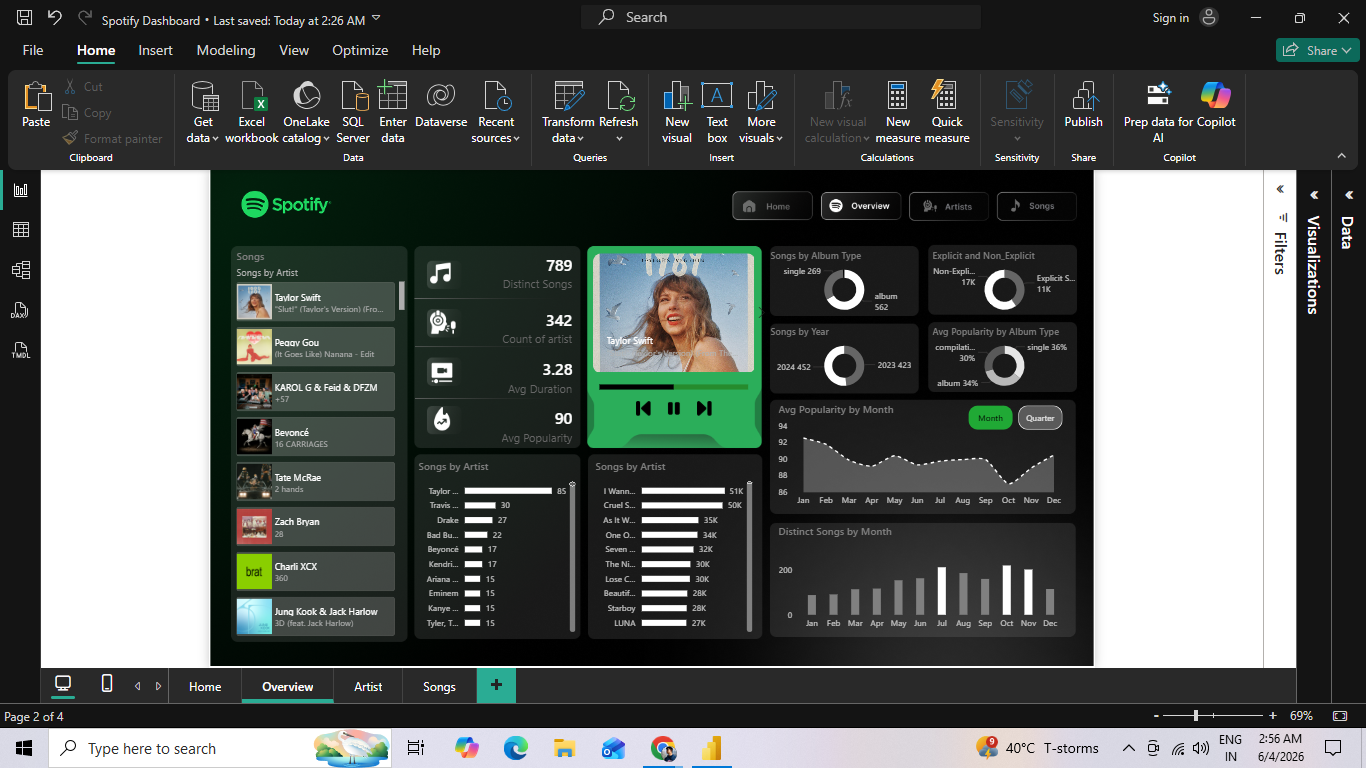

This screenshot's page, from the dashboard's own definition file:
{"tool":"powerbi","page":{"name":"Overview","canvas":[1280,720],"ordinal":1},"visuals":[{"type":"clusteredBarChart","title":"Songs by Artist","fields":{"Category":["Top-50-World.artist"],"Y":["Top-50-World.Distinct Songs per Artist"]},"box":[297.3,418.3,236.9,255.3],"z":0},{"type":"clusteredBarChart","title":"Songs by Artist","fields":{"Category":["Top-50-World.song"],"Y":["Sum(Top-50-World.popularity)"]},"box":[554.3,418.3,236.9,255.3],"z":1000},{"type":"areaChart","fields":{"Category":["Top-50-World.Month"],"Y":["Top-50-World.Avg Popularity"]},"box":[818.1,336,421.6,159.6],"z":2000},{"type":"advancedSlicerVisual","fields":{"Values":["Slicer_option.Slicer_option"]},"box":[1093.5,336,146.1,45.4],"z":3000},{"type":"donutChart","title":"Songs by Album Type","fields":{"Category":["Top-50-World.album_type"],"Y":["Top-50-World.Distinct Songs per Artist"]},"box":[806.3,114.2,223.4,100.8],"z":4000},{"type":"donutChart","title":"Avg Popularity by Album Type","fields":{"Category":["Top-50-World.album_type"],"Y":["Top-50-World.Avg Popularity"]},"box":[1041.5,223.4,218.4,100.8],"z":5000},{"type":"donutChart","title":"Songs by Year","fields":{"Y":["Top-50-World.Distinct Songs per Artist"],"Category":["Top-50-World.date.Variation.Date Hierarchy.Year"]},"box":[806.3,223.4,223.4,100.8],"z":6000},{"type":"donutChart","title":"Explicit and Non_Explicit","fields":{"Y":["Top-50-World.Explicit Songs","Top-50-World.Non-Explicit Songs"]},"box":[1041.5,114.2,218.4,100.8],"z":7000},{"type":"clusteredColumnChart","title":"Distinct Songs by Month","fields":{"Category":["Top-50-World.Month"],"Y":["Top-50-World.Distinct Songs per Artist"]},"box":[818.1,512.3,421.6,161.3],"z":8000},{"type":"cardVisual","title":"Distinct Songs by Month","fields":{"Data":["Top-50-World.Distinct Songs per Artist"]},"box":[393.1,97.4,161.3,102.5],"z":9000},{"type":"cardVisual","title":"Distinct Songs by Month","fields":{"Data":["Count(Top-50-World.artist)"]},"box":[393.1,180.9,161.3,94.1],"z":10000},{"type":"cardVisual","title":"Distinct Songs by Month","fields":{"Data":["Top-50-World.Avg Duration Minutes"]},"box":[337.6,255.9,216.7,87.3],"z":11000},{"type":"cardVisual","title":"Distinct Songs by Month","fields":{"Data":["Top-50-World.Avg Popularity"]},"box":[393.1,324.2,161.3,92.4],"z":12000},{"type":"image","box":[310.8,275.5,52.1,35.3],"z":13000},{"type":"image","box":[309.1,342.7,65.5,33.6],"z":14000},{"type":"image","box":[319.2,199.9,37,40.3],"z":15000},{"type":"image","box":[319.2,132.7,30.2,31.9],"z":16000},{"type":"advancedSlicerVisual","title":"Songs","fields":{"Values":["Top-50-World.song"],"Label":["Min(Top-50-World.artist)"]},"box":[34.7,114.2,253,571.1],"z":17000},{"type":"advancedSlicerVisual","title":"Songs","fields":{"Values":["Top-50-World.song"],"Label":["Min(Top-50-World.artist)"]},"box":[529.1,114.2,285.6,184.8],"z":18000},{"type":"hundredPercentStackedBarChart","fields":{"Y":["Top-50-World.Avg Popularity","Avg(Top-50-World.popularity)"]},"box":[559.4,275.5,225.1,68.9],"z":19000},{"type":"image","box":[703.8,329.2,23.5,30.2],"z":20000},{"type":"image","box":[616.5,329.2,23.5,30.2],"z":21000},{"type":"image","box":[638.3,329.2,65.5,30.2],"z":22000},{"type":"shape","box":[542.6,109.2,263.7,290.6],"z":23000},{"type":"actionButton","box":[759,31.8,111.3,40.5],"z":24001},{"type":"actionButton","box":[883.4,31.8,118.6,40.5],"z":24002},{"type":"actionButton","box":[1012,31.8,114.2,40.5],"z":24003},{"type":"actionButton","box":[1140.7,31.8,118.6,40.5],"z":24004}]}

Visuals, with their boxes on the page's 1280x720 design canvas (x1, y1, x2, y2). These are canvas units, not pixel positions in the 1366x768 screenshot, which may show the page scaled, cropped or inside an application window:
"Songs by Artist" clusteredBarChart: crop(297, 418, 534, 674)
"Songs by Artist" clusteredBarChart: crop(554, 418, 791, 674)
areaChart - Top-50-World.Month x Top-50-World.Avg Popularity: crop(818, 336, 1240, 496)
advancedSlicerVisual - Slicer_option.Slicer_option: crop(1094, 336, 1240, 381)
"Songs by Album Type" donutChart: crop(806, 114, 1030, 215)
"Avg Popularity by Album Type" donutChart: crop(1042, 223, 1260, 324)
"Songs by Year" donutChart: crop(806, 223, 1030, 324)
"Explicit and Non_Explicit" donutChart: crop(1042, 114, 1260, 215)
"Distinct Songs by Month" clusteredColumnChart: crop(818, 512, 1240, 674)
"Distinct Songs by Month" cardVisual: crop(393, 97, 554, 200)
"Distinct Songs by Month" cardVisual: crop(393, 181, 554, 275)
"Distinct Songs by Month" cardVisual: crop(338, 256, 554, 343)
"Distinct Songs by Month" cardVisual: crop(393, 324, 554, 417)
image: crop(311, 276, 363, 311)
image: crop(309, 343, 375, 376)
image: crop(319, 200, 356, 240)
image: crop(319, 133, 349, 165)
"Songs" advancedSlicerVisual: crop(35, 114, 288, 685)
"Songs" advancedSlicerVisual: crop(529, 114, 815, 299)
hundredPercentStackedBarChart - Top-50-World.Avg Popularity x Avg(Top-50-World.popularity): crop(559, 276, 784, 344)
image: crop(704, 329, 727, 359)
image: crop(616, 329, 640, 359)
image: crop(638, 329, 704, 359)
shape: crop(543, 109, 806, 400)
actionButton: crop(759, 32, 870, 72)
actionButton: crop(883, 32, 1002, 72)
actionButton: crop(1012, 32, 1126, 72)
actionButton: crop(1141, 32, 1259, 72)
